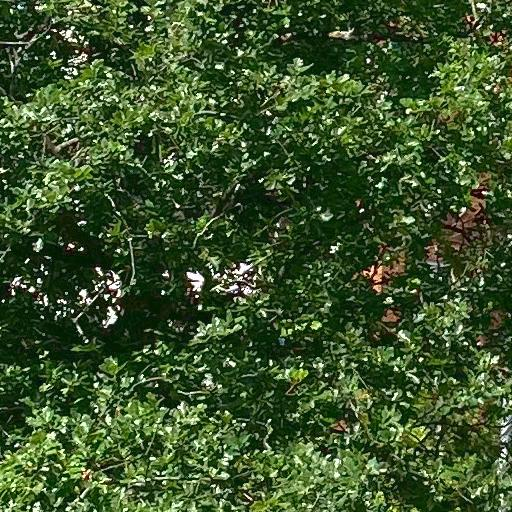tree: (1, 1, 511, 511), (268, 351, 512, 511)
